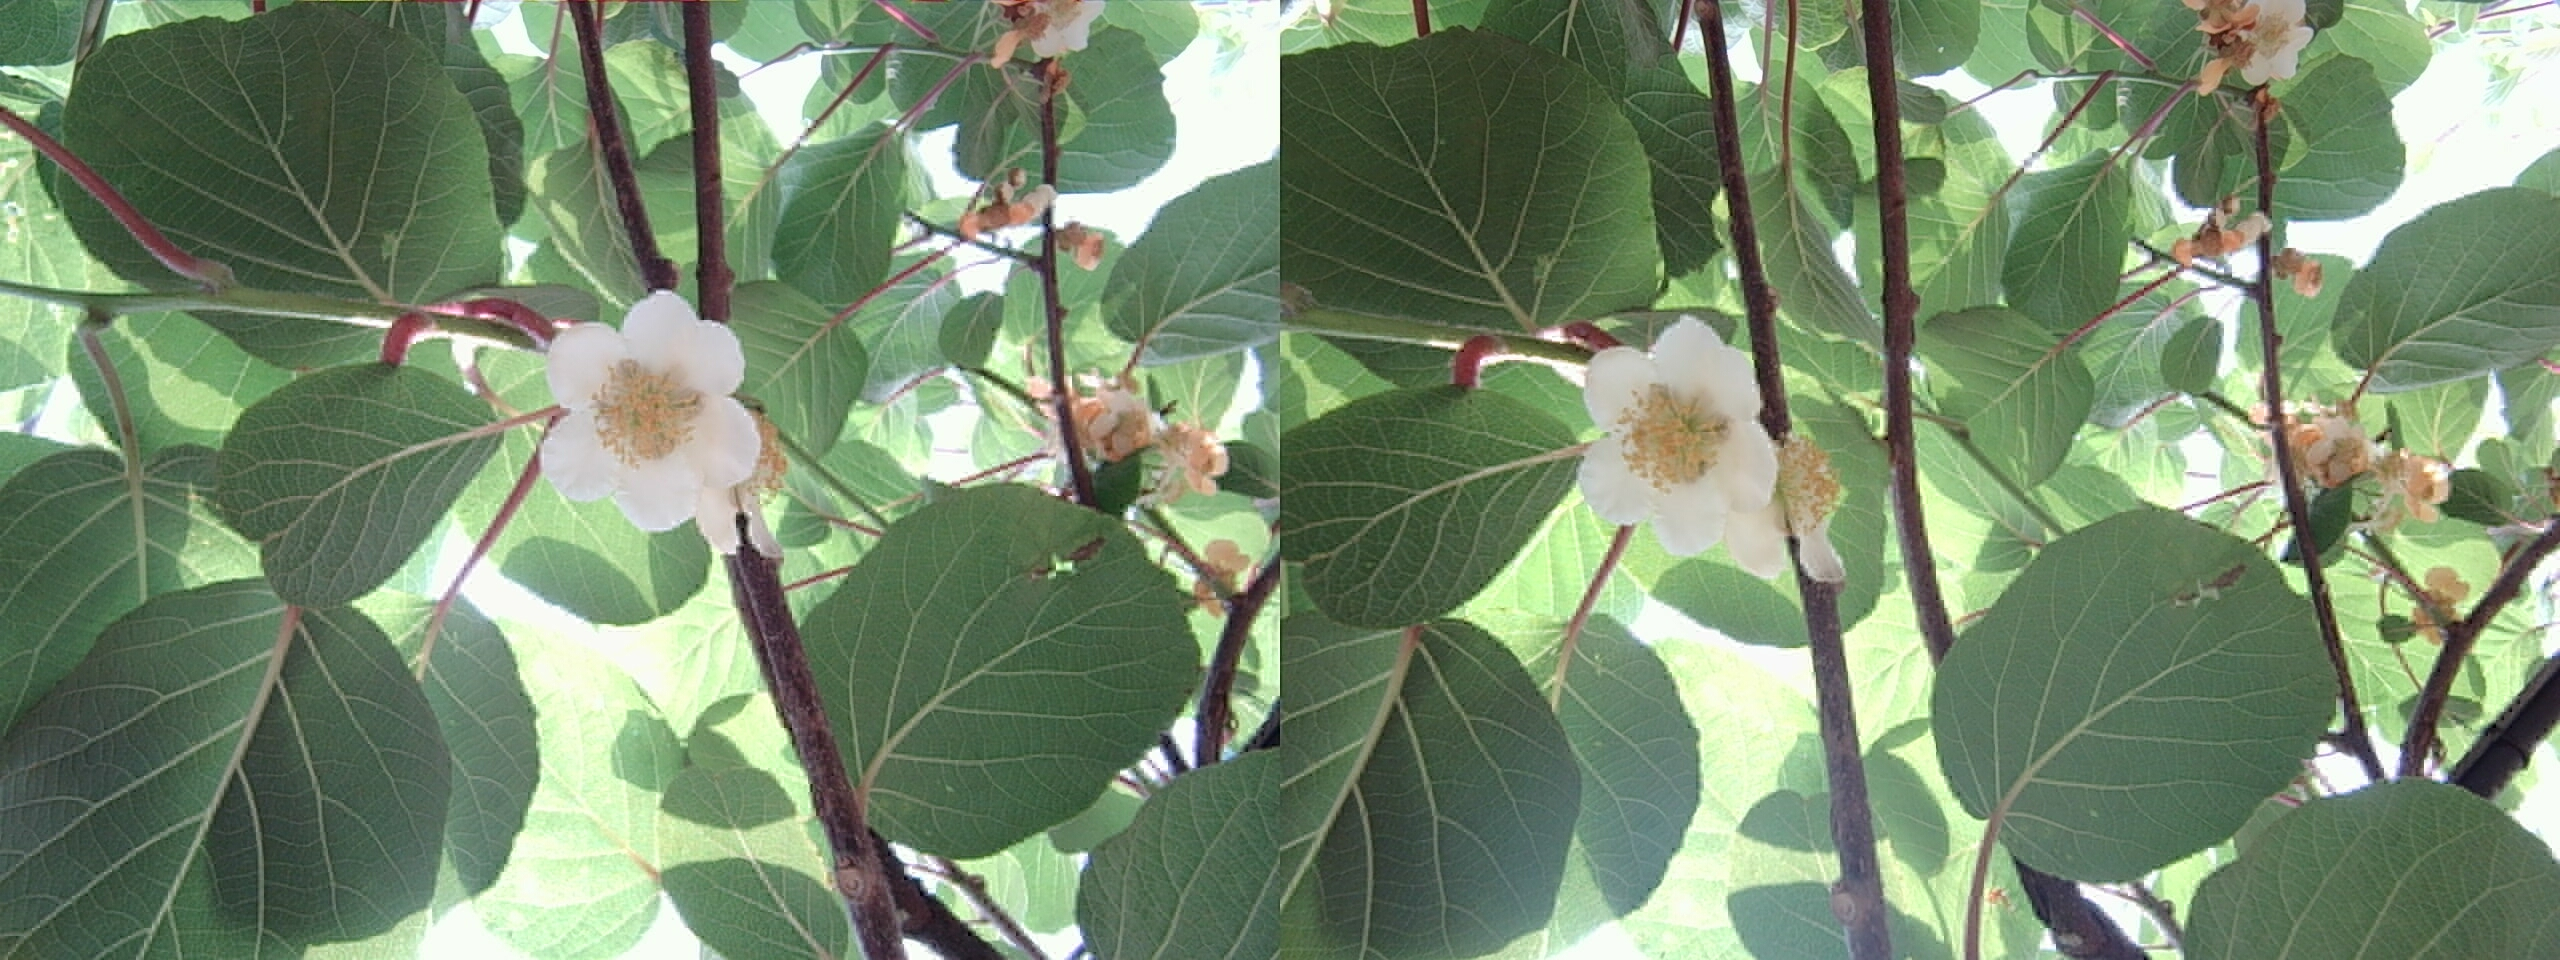flower: (532, 287, 761, 539), (1572, 318, 1784, 553)
